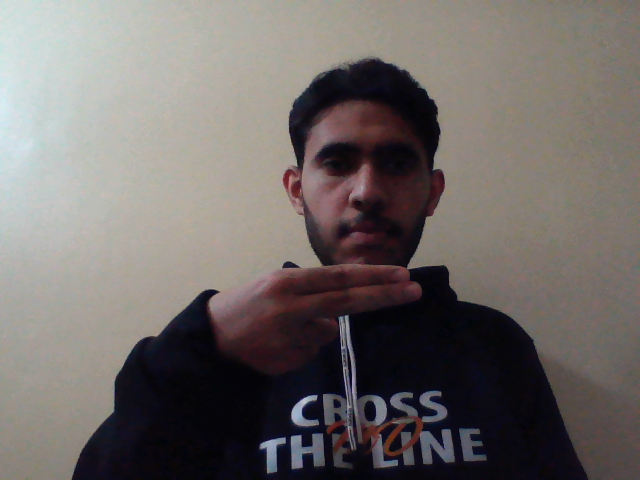H: (198, 261, 433, 381)
